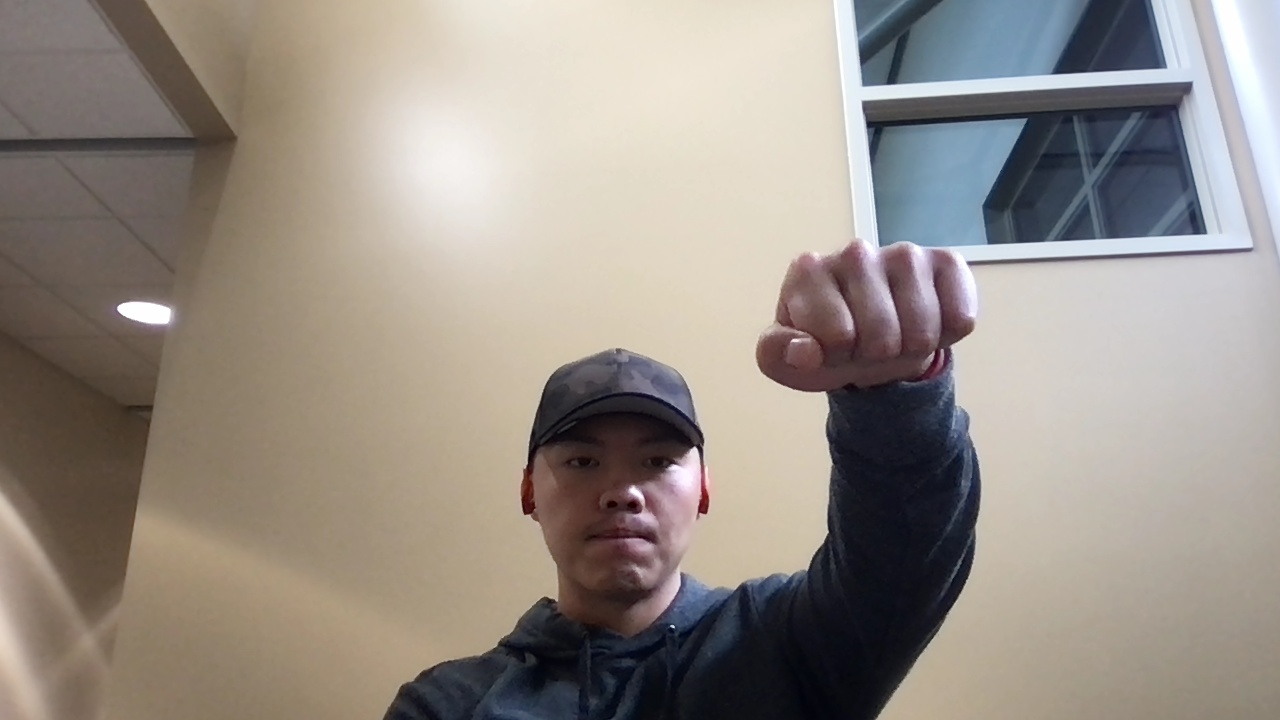Yes: (751, 237, 983, 396)
